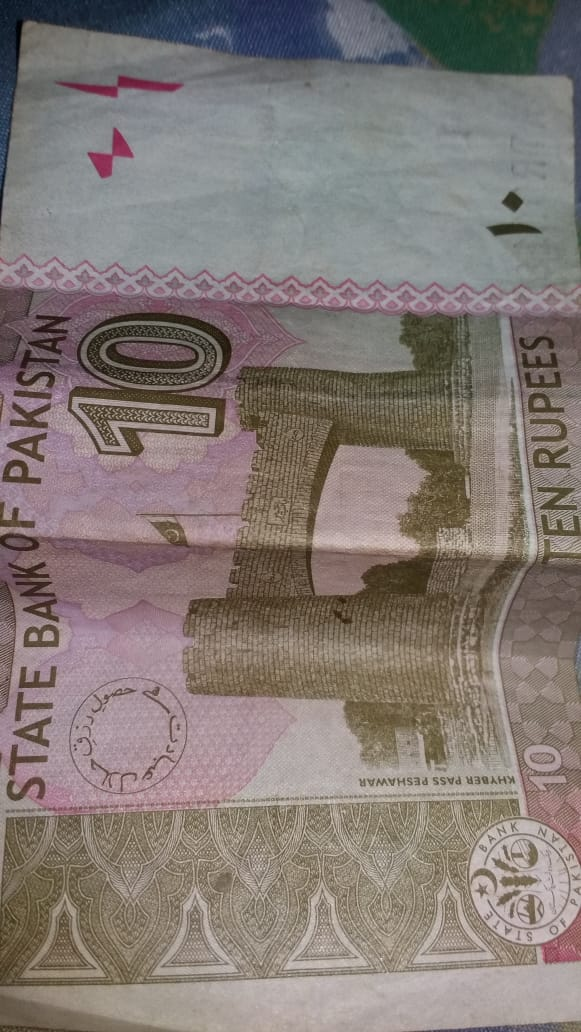10 rupee: (12, 33, 569, 1014)
